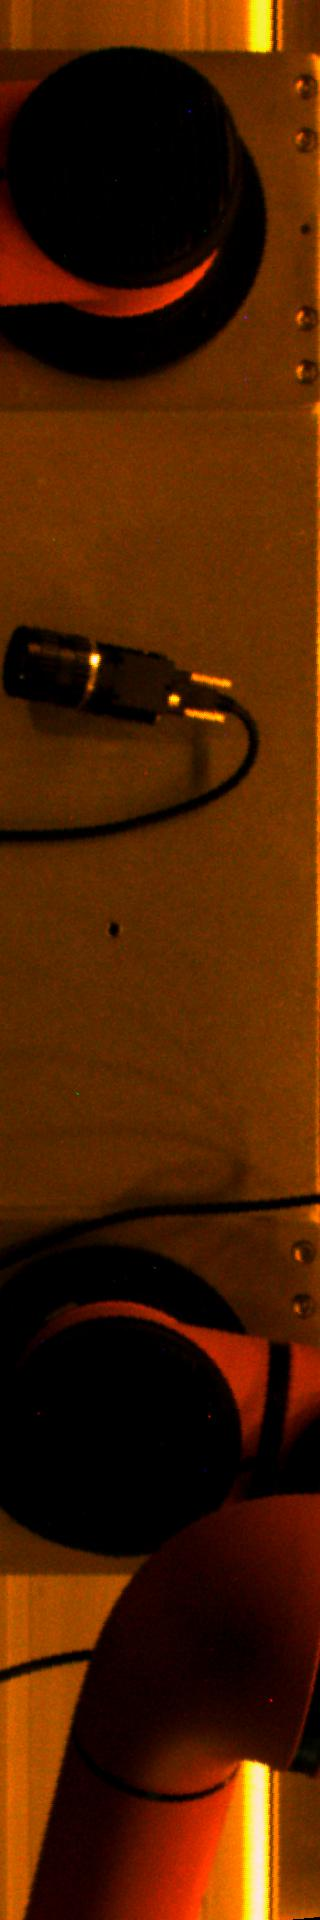keyPoint_2: (98, 915, 128, 945)
